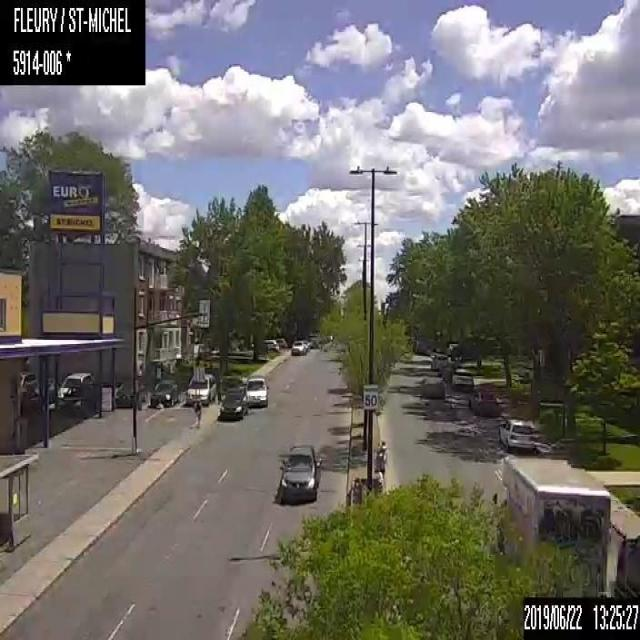pedestrian: (374, 439, 386, 481), (192, 396, 202, 430)
vehicle: (492, 451, 609, 596), (279, 442, 321, 502), (498, 416, 539, 452), (56, 369, 94, 398), (114, 378, 145, 407), (148, 378, 178, 407), (187, 372, 215, 403), (244, 374, 269, 408), (217, 391, 246, 420), (469, 388, 497, 414), (450, 367, 476, 392), (431, 352, 450, 371), (18, 371, 35, 391), (289, 338, 307, 354), (264, 338, 279, 352)
